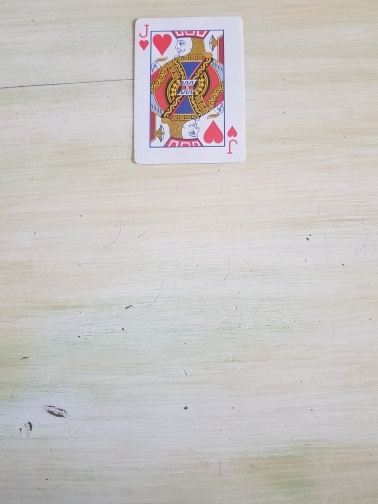jack: (131, 15, 248, 166)
